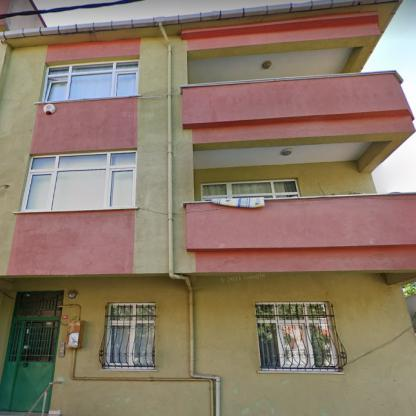door: (0, 320, 59, 412)
window: (26, 151, 136, 209), (255, 304, 334, 368), (43, 61, 138, 102), (108, 305, 156, 367), (202, 180, 298, 201), (15, 294, 63, 316)
